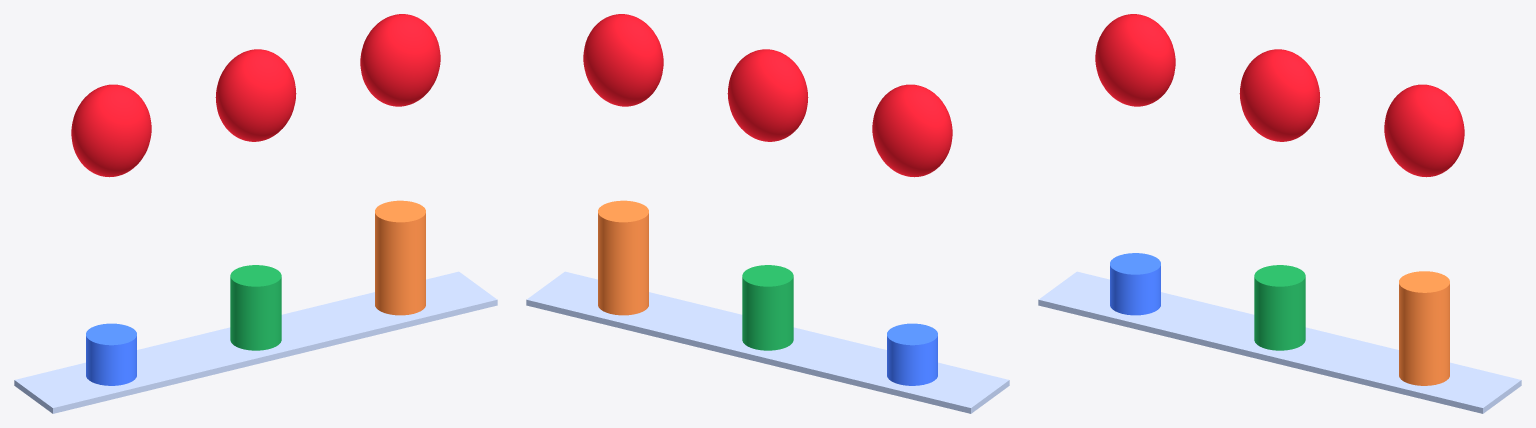
The model's file is pulse.glb.
The picture shows the model from 3 angles, left to right: view 1: azimuth 30°, elevation 25°; view 2: azimuth 150°, elevation 25°; view 3: azimuth 330°, elevation 25°; orthographic projection.
Parts seen in each view (by area): view 1: floor, hb0, hb2, hb1, bar2, bar1, bar0; view 2: floor, hb0, hb2, hb1, bar2, bar1, bar0; view 3: floor, hb2, hb0, hb1, bar2, bar1, bar0.
Boxes of the visible parts, x1,y1,x2,y2 form: floor: [14, 271, 497, 413]; hb0: [71, 84, 151, 177]; hb2: [360, 14, 440, 106]; hb1: [215, 49, 296, 141]; bar2: [375, 200, 425, 315]; bar1: [230, 265, 281, 350]; bar0: [86, 323, 136, 385]; floor: [526, 271, 1009, 413]; hb0: [872, 84, 952, 177]; hb2: [583, 14, 663, 106]; hb1: [727, 49, 808, 141]; bar2: [598, 200, 648, 315]; bar1: [742, 265, 793, 350]; bar0: [887, 323, 937, 385]; floor: [1038, 271, 1521, 413]; hb2: [1384, 84, 1464, 177]; hb0: [1095, 14, 1175, 106]; hb1: [1239, 49, 1320, 141]; bar2: [1399, 271, 1449, 385]; bar1: [1254, 265, 1305, 350]; bar0: [1110, 253, 1160, 315].
Size of what is drawn, in the model's own units: 0.8 by 0.505 by 0.12.
